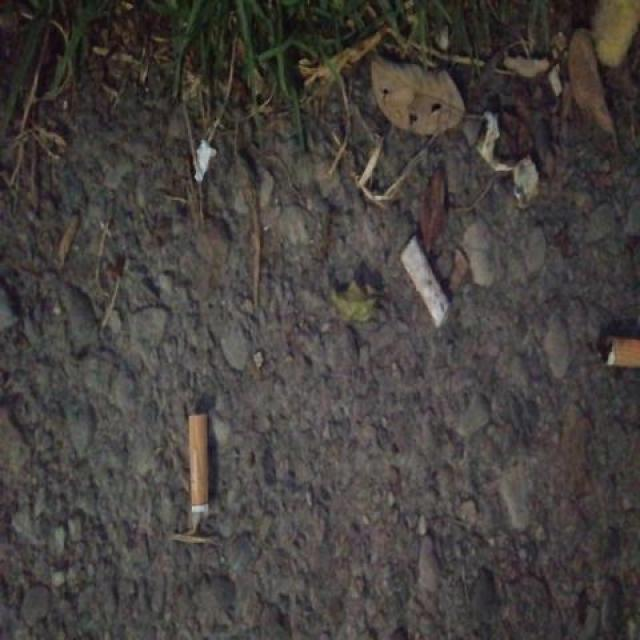non-organic waste: (396, 227, 453, 330), (183, 406, 213, 537), (592, 326, 640, 382)
